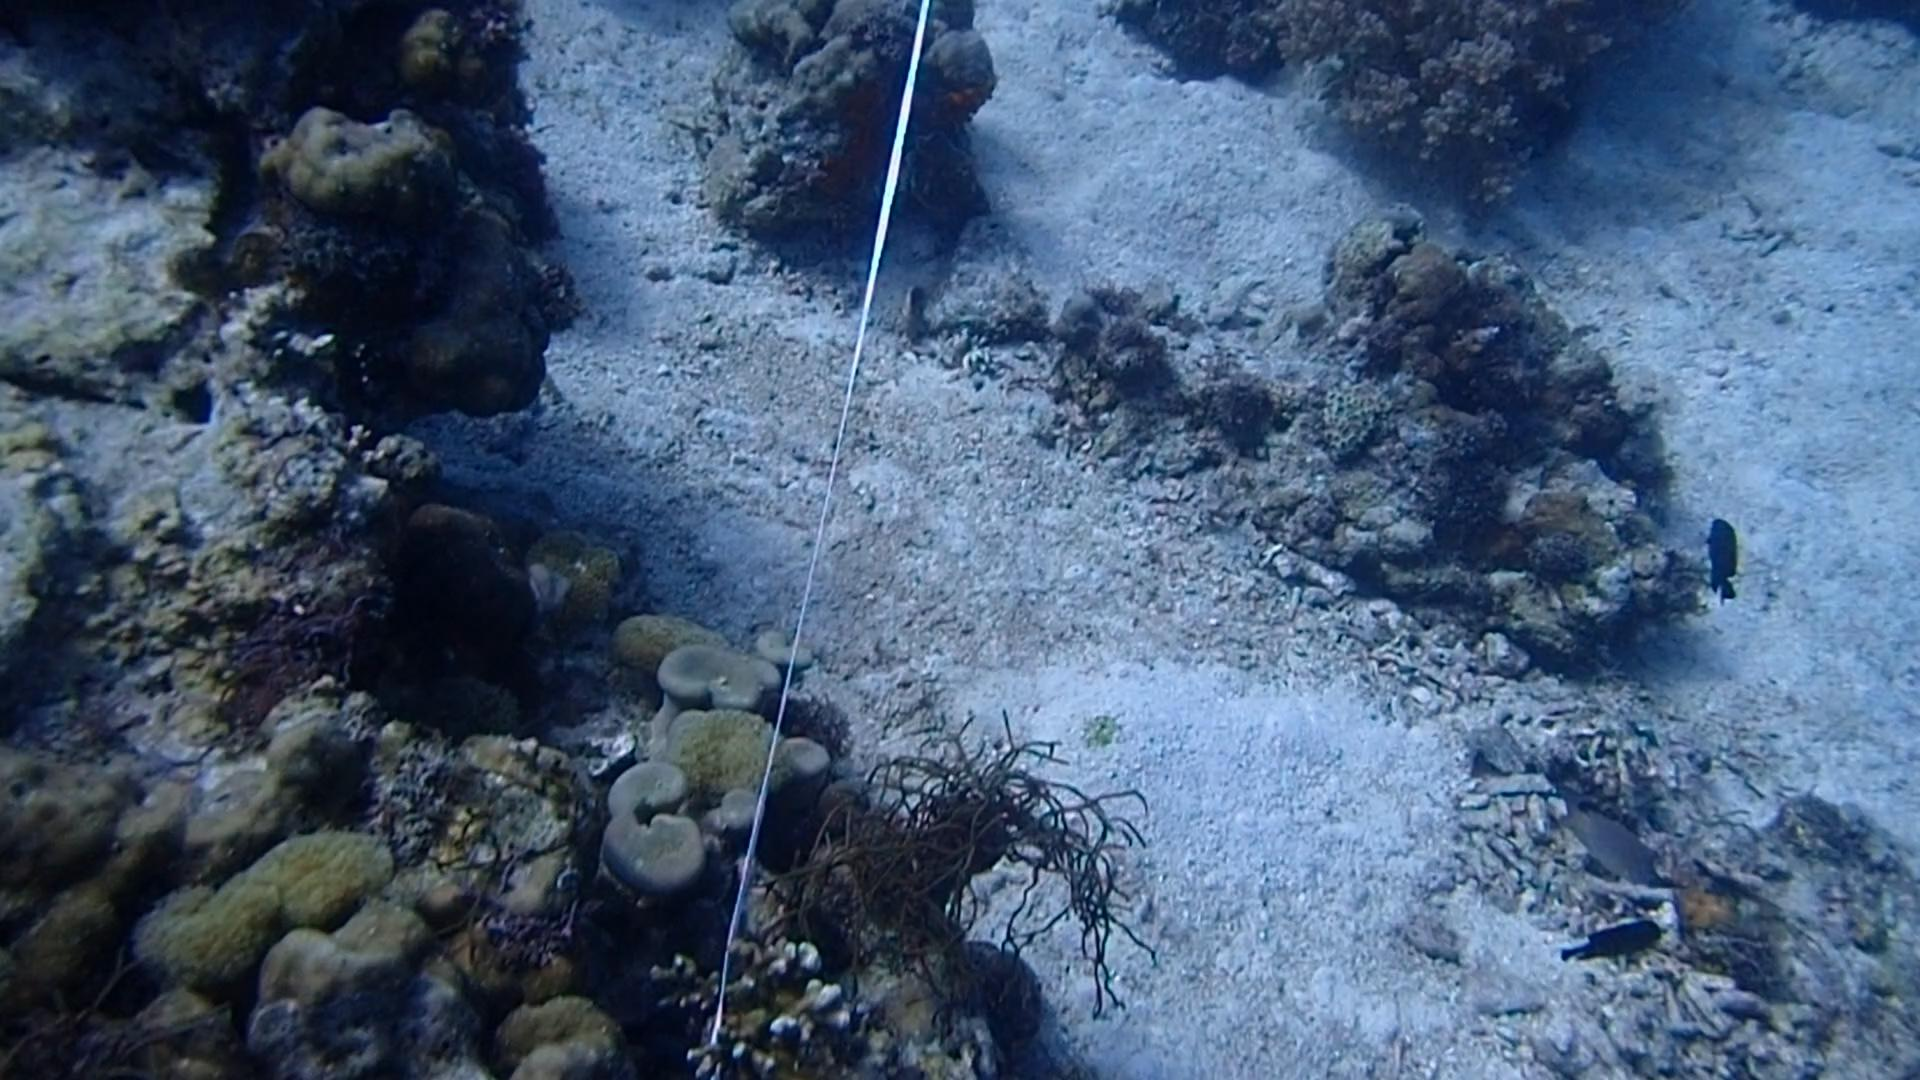Dark Fish: (1560, 909, 1668, 975), (1698, 510, 1751, 604)
Light Fish: (1560, 802, 1671, 886)
